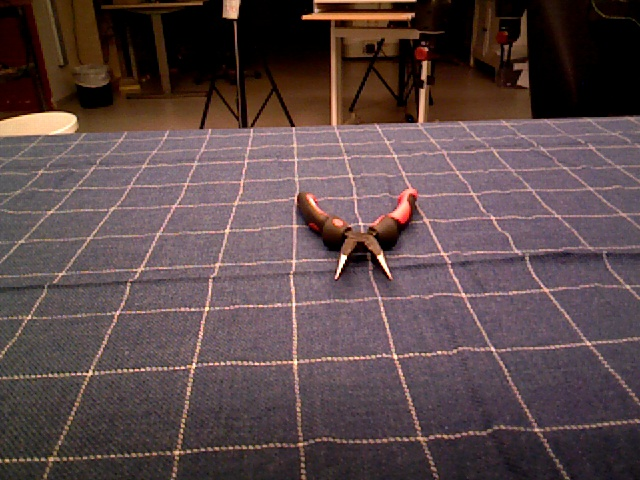plier1: (296, 188, 419, 283)
